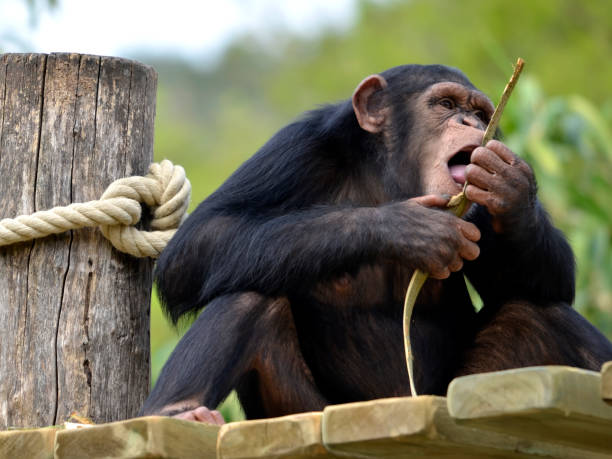chimpanzee: (314, 53, 526, 236)
